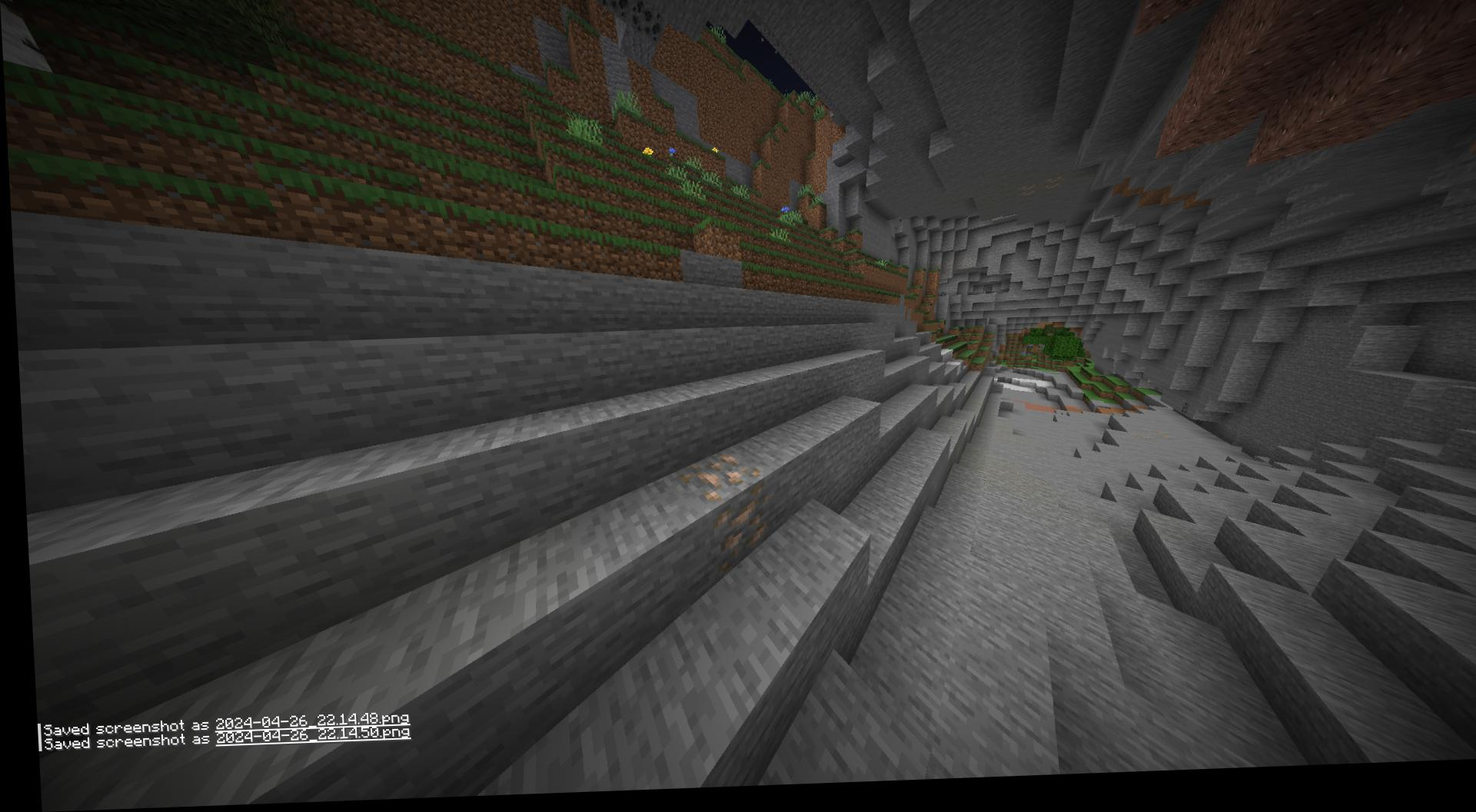iron ore: (677, 460, 763, 559), (1011, 179, 1067, 209)
